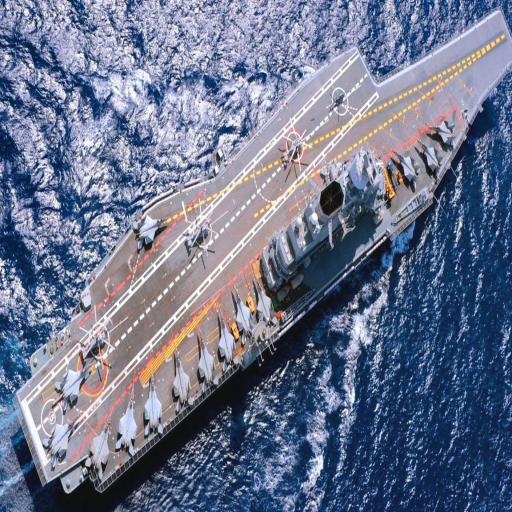Portanaves: (12, 8, 511, 503)
